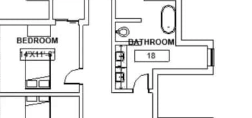door: (59, 63, 90, 89), (131, 71, 151, 96)
